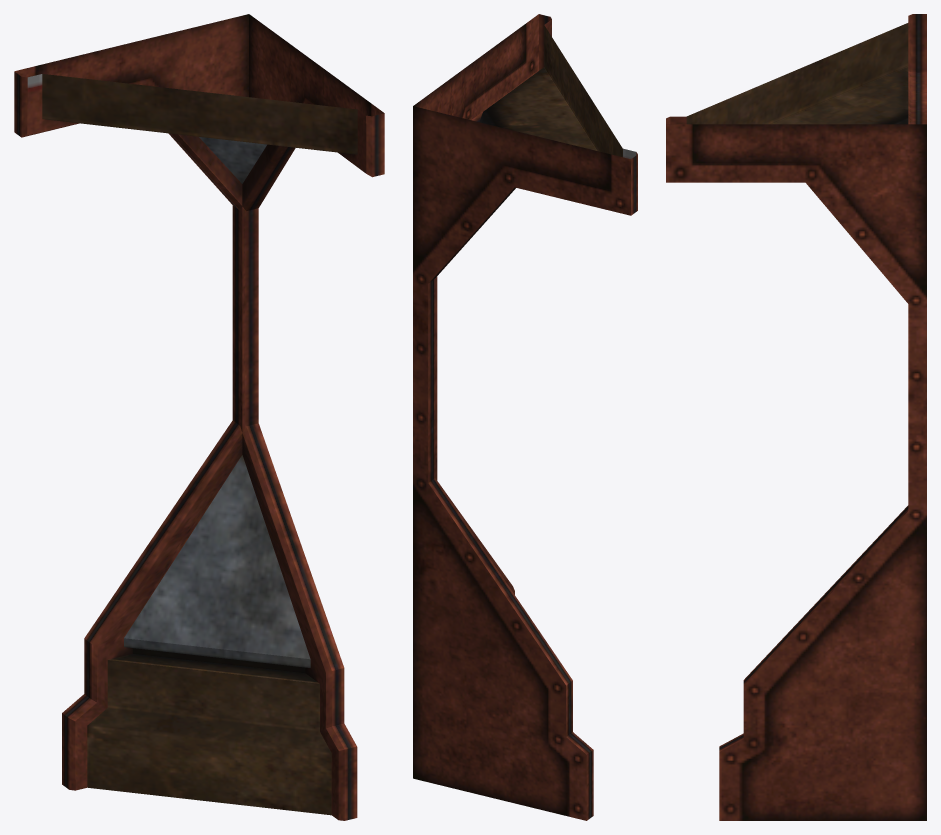
The model's file is bevelled_convex.dae.
3 views of the same model, side by side, from view 1: azimuth 30°, elevation 25°; view 2: azimuth 150°, elevation 25°; view 3: azimuth 270°, elevation 25° (orthographic). The views are drawn at different scales.
Parts seen in each view (by area): view 1: polySurface268; view 2: polySurface268; view 3: polySurface268.
Boxes of the visible parts, left/top/right/bottom form: polySurface268: left=14, top=14, right=384, bottom=820; polySurface268: left=413, top=14, right=637, bottom=820; polySurface268: left=666, top=14, right=926, bottom=820.
Bounding box in the file's own units: 1.36 × 4 × 1.36.
